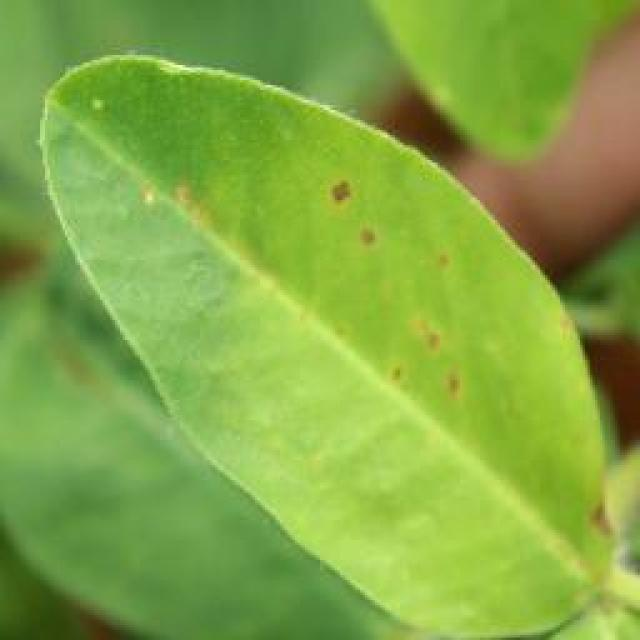Sigatoka: (394, 294, 458, 418), (139, 164, 221, 253), (394, 218, 473, 310), (308, 170, 378, 256), (561, 467, 622, 552)
